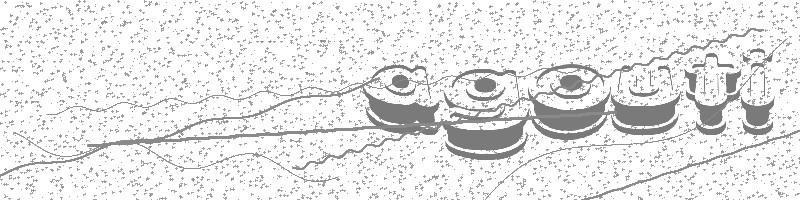a: (363, 63, 442, 138)
g: (444, 67, 529, 161)
i: (739, 47, 775, 136)
o: (527, 62, 612, 141)
t: (684, 53, 741, 136)
u: (611, 64, 682, 135)
